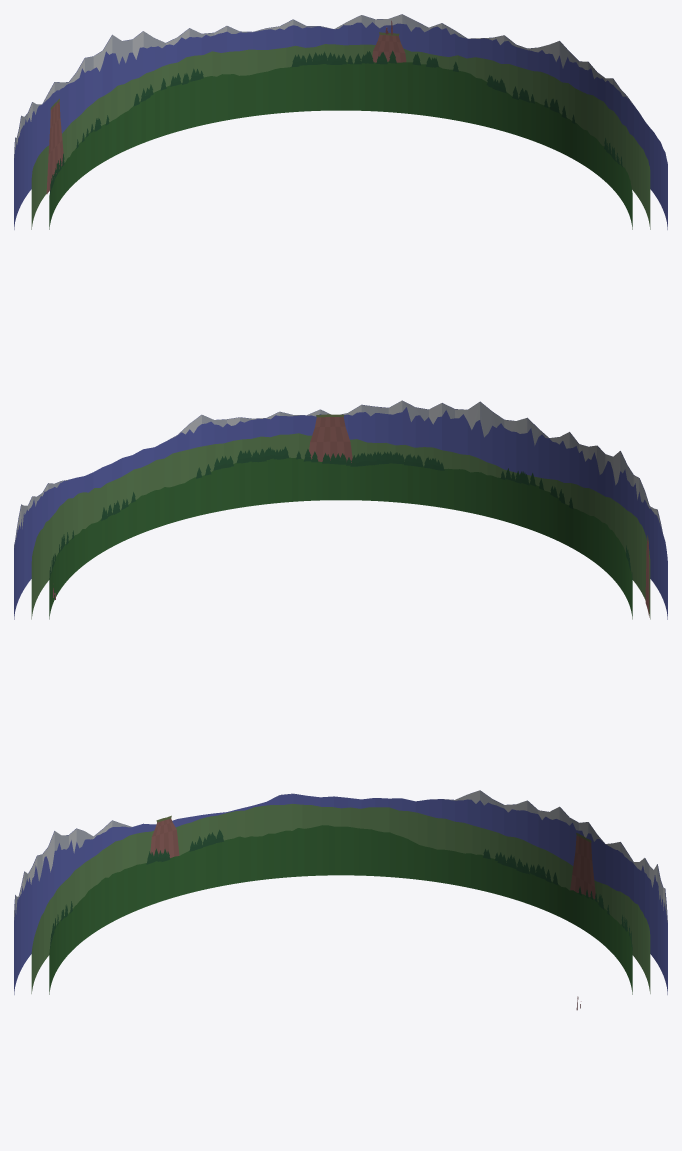
Rendered from skyline_ring.glb.
3 views of the same model, one above another, from view 1: azimuth 30°, elevation 25°; view 2: azimuth 150°, elevation 25°; view 3: azimuth 270°, elevation 25° (orthographic).
Parts seen in each view (by area): view 1: skyline_ring; view 2: skyline_ring; view 3: skyline_ring.
Part boxes in pixels (left/top/right/bottom): skyline_ring: left=14, top=14, right=667, bottom=229; skyline_ring: left=14, top=400, right=667, bottom=619; skyline_ring: left=14, top=790, right=667, bottom=1010.
Size of the model in its own units: 740 by 126 by 740.
